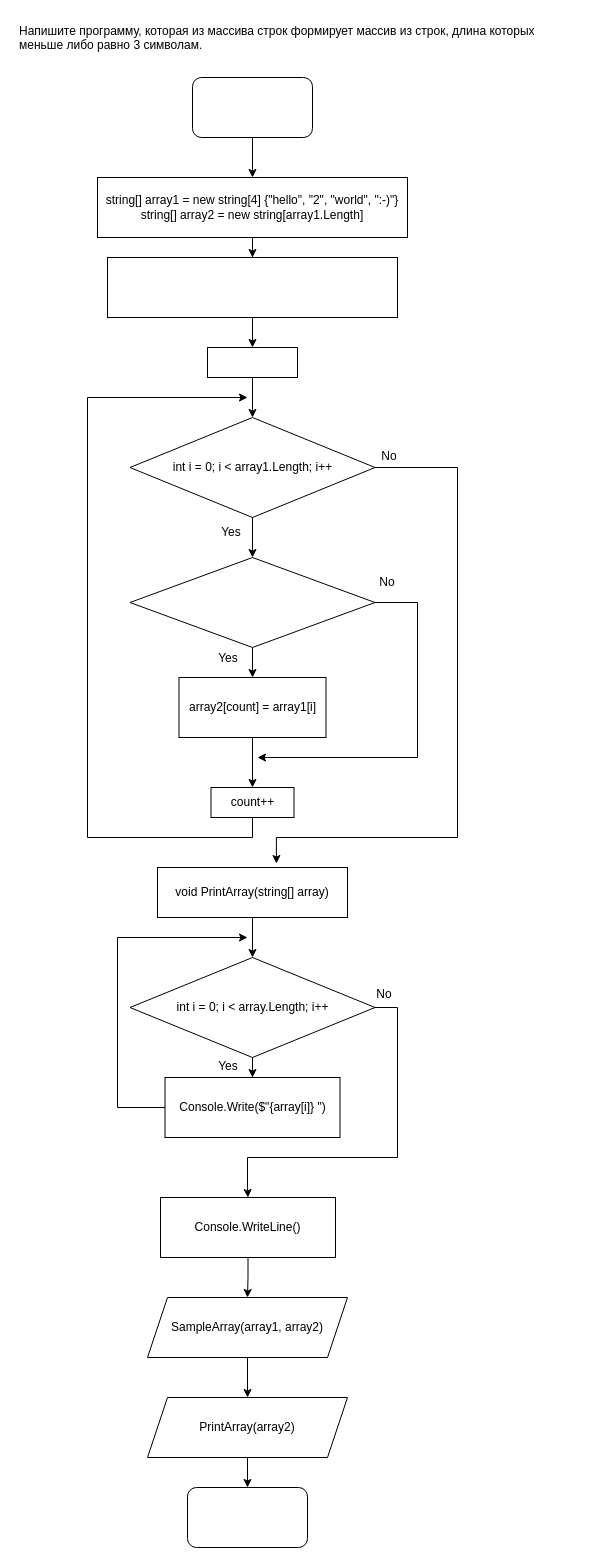
Some shapes in this 594 by 1565 pixel diagram are drawn without their labels. The shapes that lost their labels are listed below. From the top down, each one's centre as x and y in pixels, then its label:
At [252,107]: "Start".
At [252,287]: "void SampleArray(string[] array1, string[] array2)".
At [252,362]: "int count = 0".
At [252,602]: "array1[i].Length <= 3".
At [247,1517]: "End".
